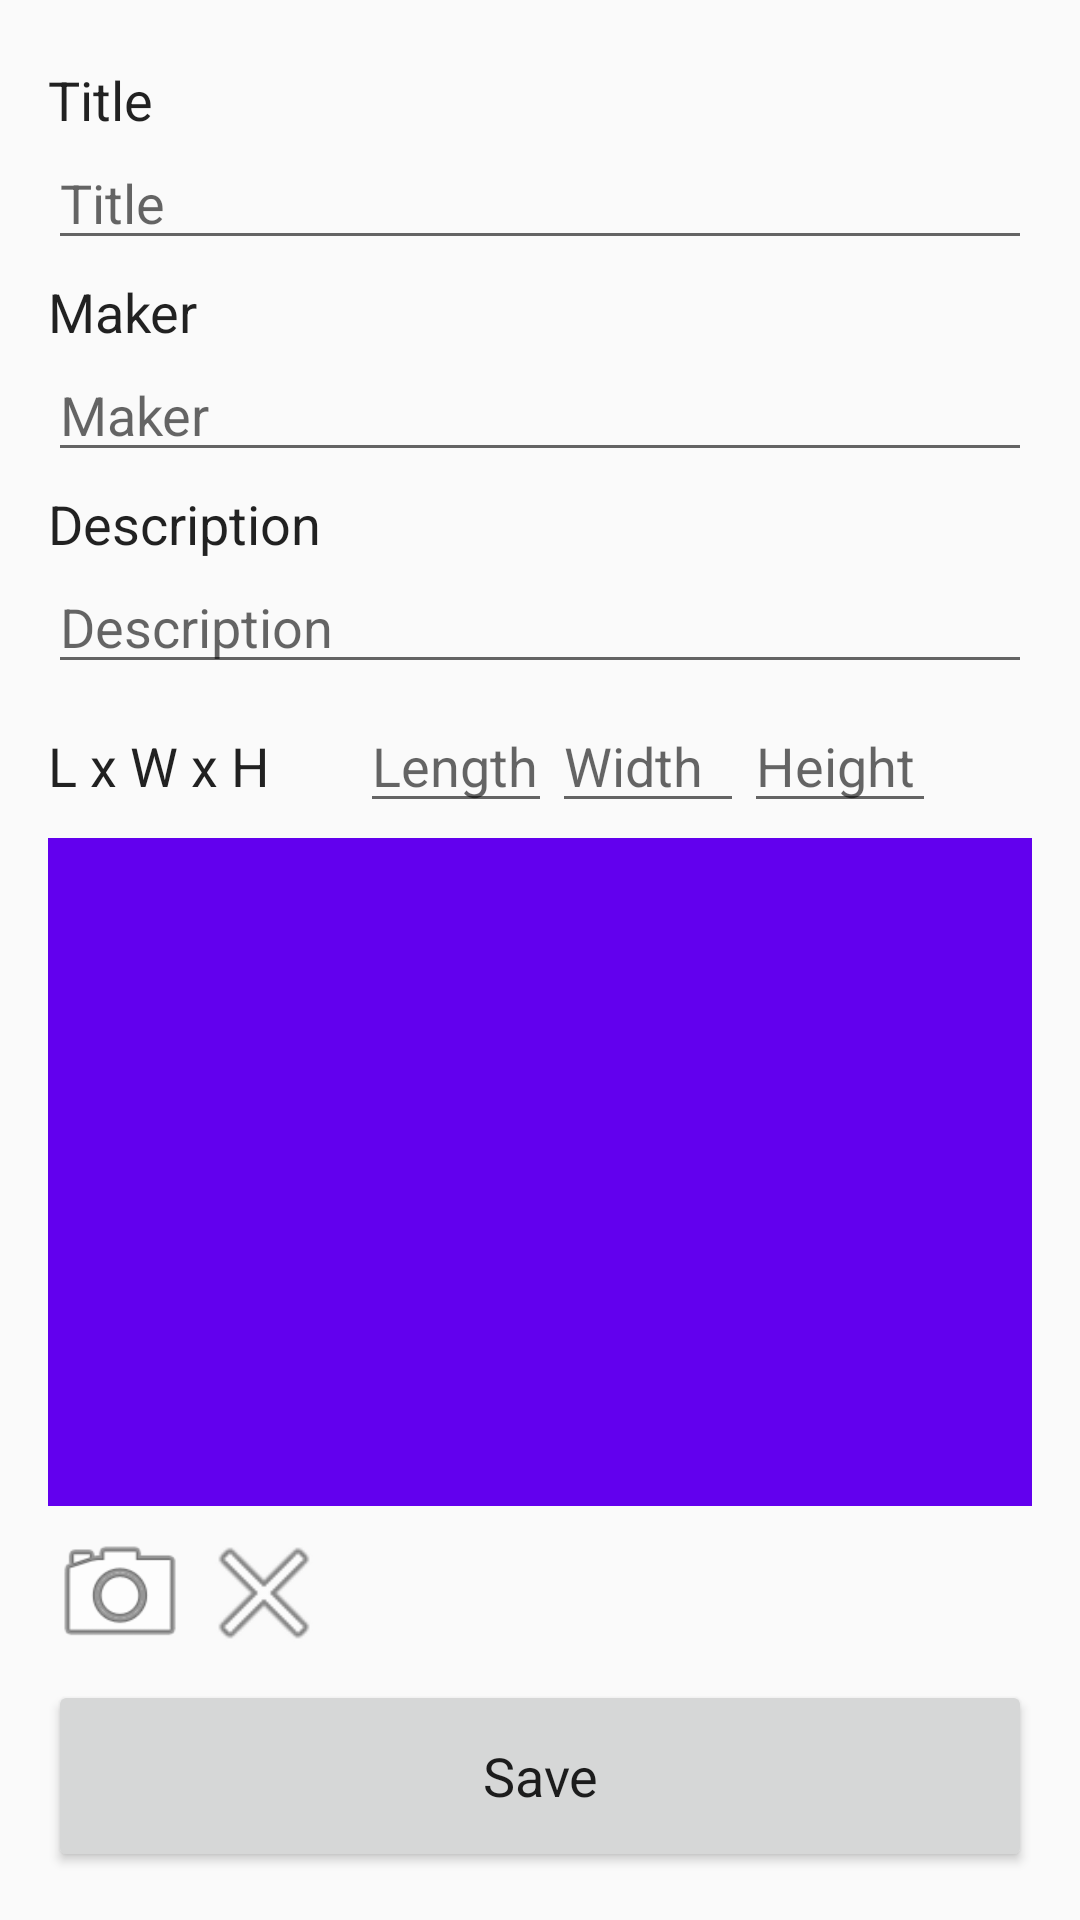

Icons on this 1080 x 1920 Android screen, each with its box as region(x1, y1, x2, y2):
camera: region(64, 1546, 176, 1635)
close clear cancel: region(219, 1548, 309, 1638)
